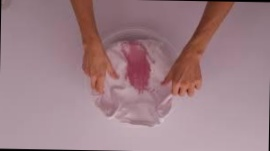wine: (114, 34, 156, 96)
